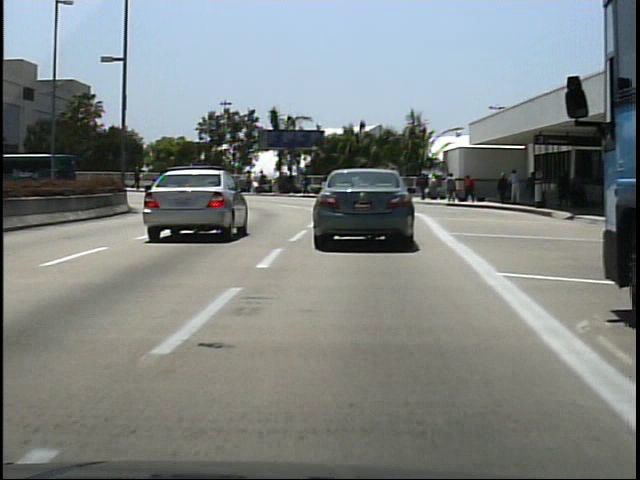person: (554, 164, 572, 210), (507, 167, 523, 207), (462, 171, 479, 207), (524, 169, 540, 206), (495, 170, 511, 206), (445, 169, 460, 203), (131, 162, 146, 193), (417, 171, 430, 202), (199, 169, 215, 194)
